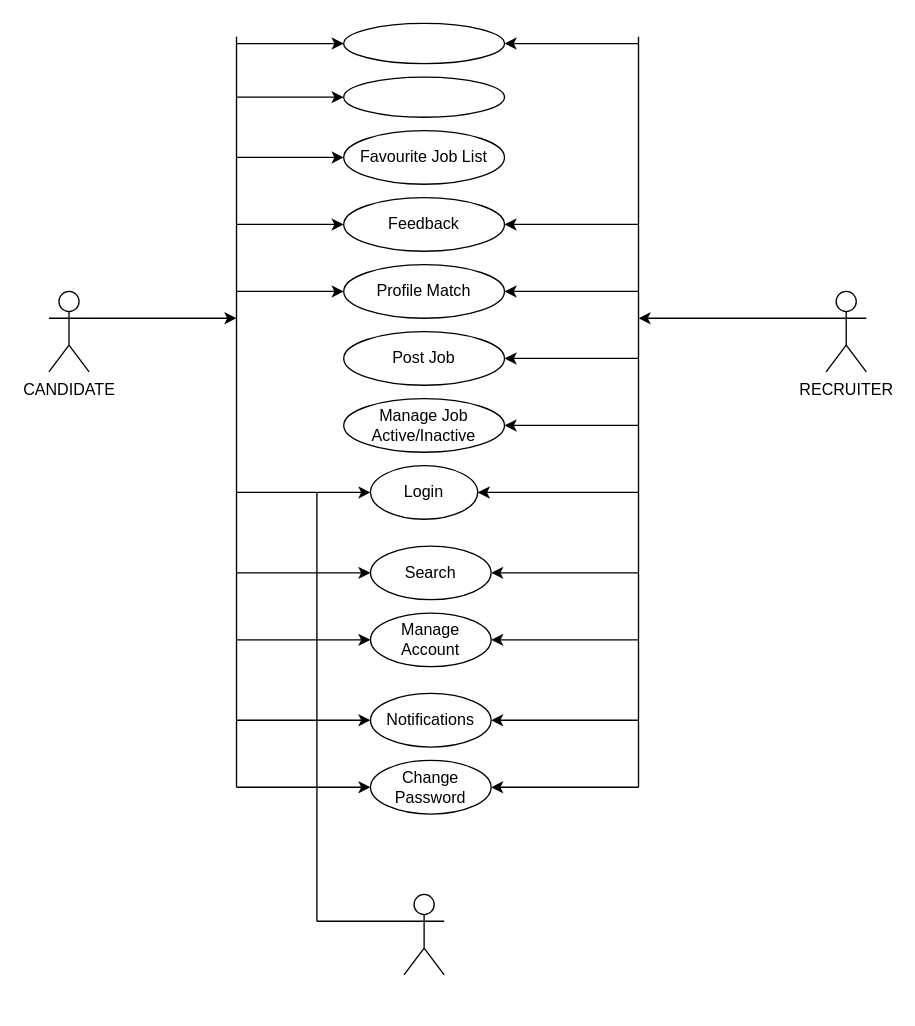
The diagram is 915 pixels wide and 1026 high, and some of its shapes have lost their labels. The shapes that lost their labels are listed below. From the top down, each one's centre as x and y in pixels, then its label:
point (423, 43): Registration
point (423, 96): Apply Job
point (423, 934): ADMIN
